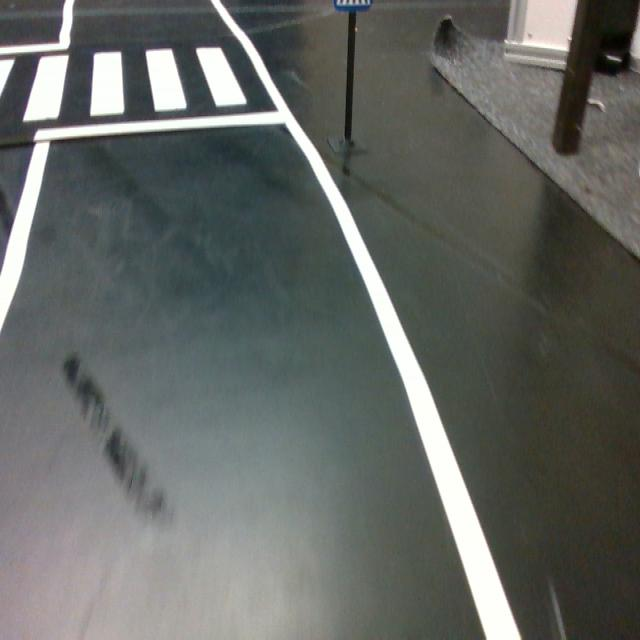crosswalk-sign: (334, 0, 374, 13)
